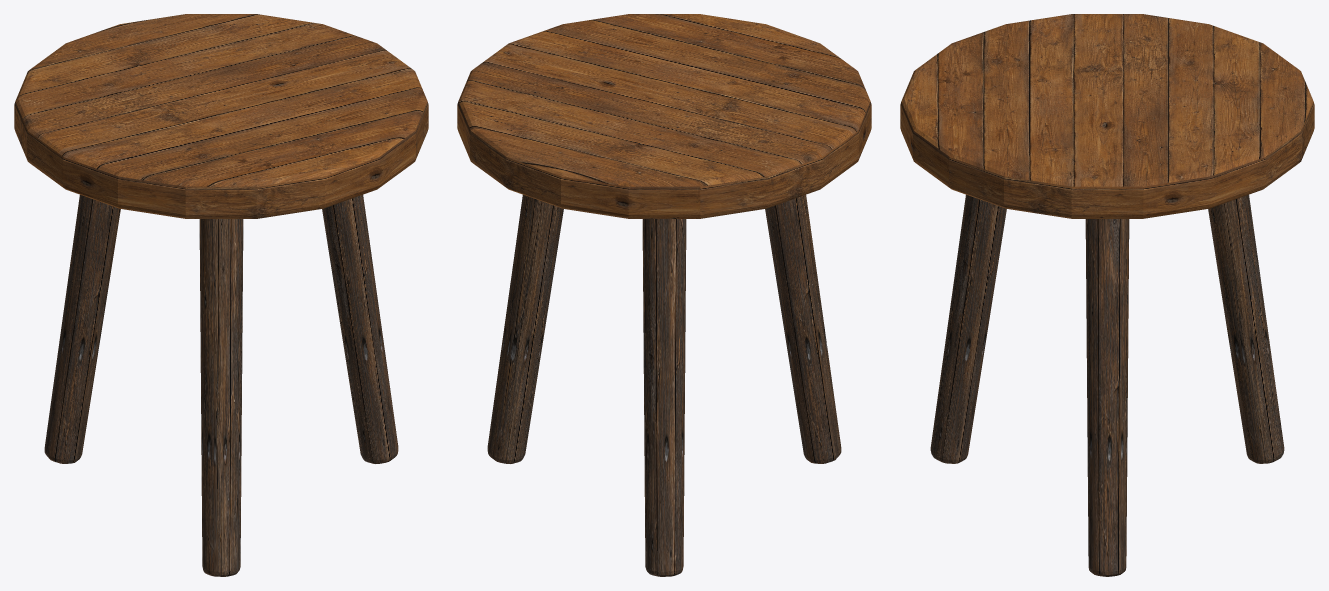
Rendered from stool-v01.glb.
The picture shows the model from 3 angles, left to right: view 1: azimuth 30°, elevation 25°; view 2: azimuth 150°, elevation 25°; view 3: azimuth 270°, elevation 25°; orthographic projection.
Parts seen in each view (by area): view 1: stool; view 2: stool; view 3: stool.
Boxes of the visible parts, left/top/right/bottom form: stool: left=14, top=14, right=428, bottom=576; stool: left=457, top=14, right=871, bottom=576; stool: left=900, top=14, right=1314, bottom=576.
Size of the model in its own units: 0.5909 by 0.6393 by 0.6.
2 materials, 2 textured.
